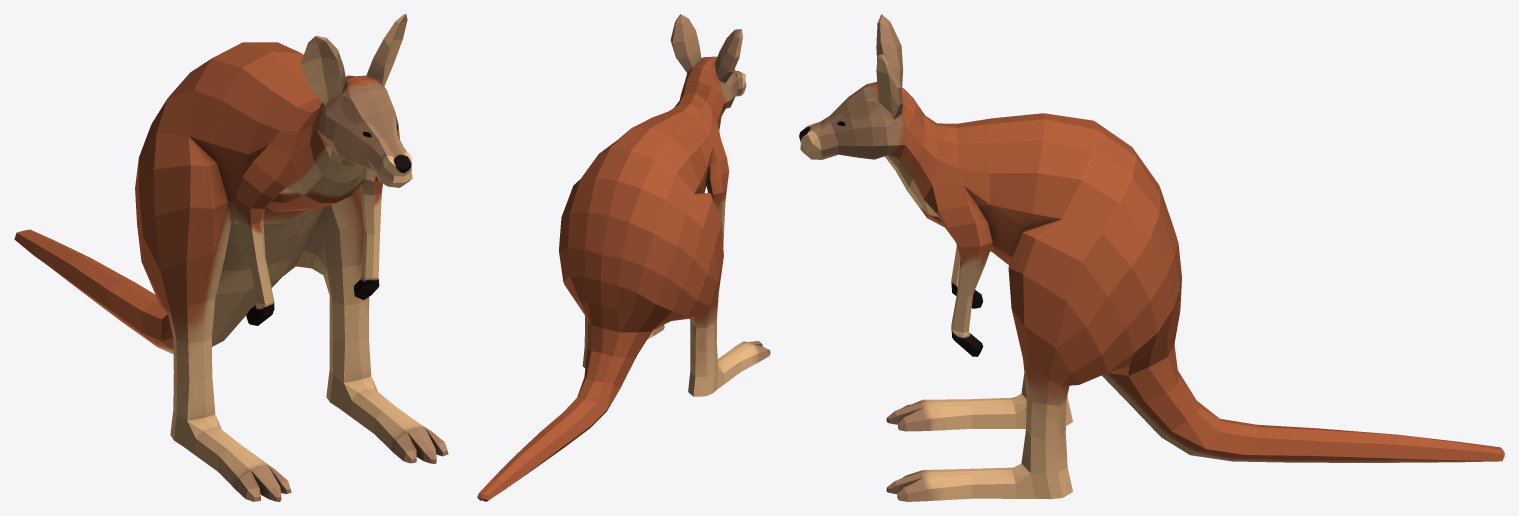
File: RedKangaroo.obj
3 views of the same model, side by side, from view 1: azimuth 30°, elevation 25°; view 2: azimuth 150°, elevation 25°; view 3: azimuth 270°, elevation 25° (orthographic). The views are drawn at different scales.
Parts seen in each view (by area): view 1: RedKangaroo_Mesh; view 2: RedKangaroo_Mesh; view 3: RedKangaroo_Mesh.
Part boxes in pixels (<box>): RedKangaroo_Mesh: <box>14,14,448,501</box>; RedKangaroo_Mesh: <box>477,14,770,501</box>; RedKangaroo_Mesh: <box>799,14,1504,501</box>.
Size of the model in its own units: 3.95 by 8.26 by 12.4.
1 material, 1 textured.
